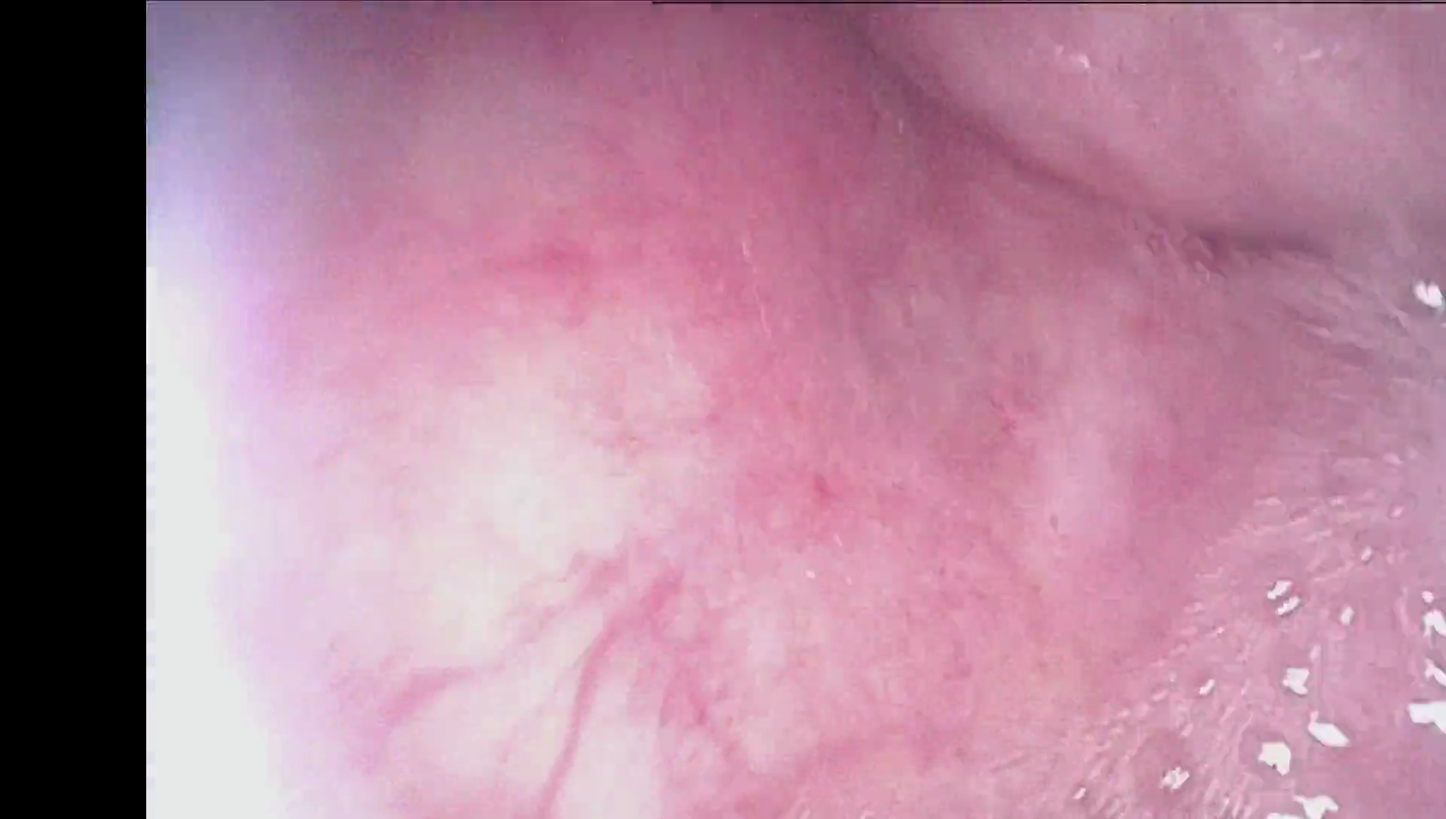close_wall: (168, 169, 898, 819)
